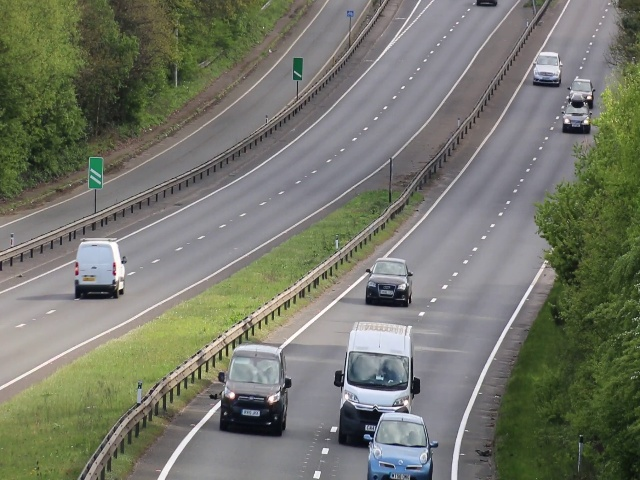car: (344, 321, 403, 444), (219, 343, 291, 433), (370, 416, 436, 480), (75, 237, 126, 300), (362, 256, 413, 308), (533, 49, 561, 87), (564, 104, 590, 135), (567, 79, 596, 105)
